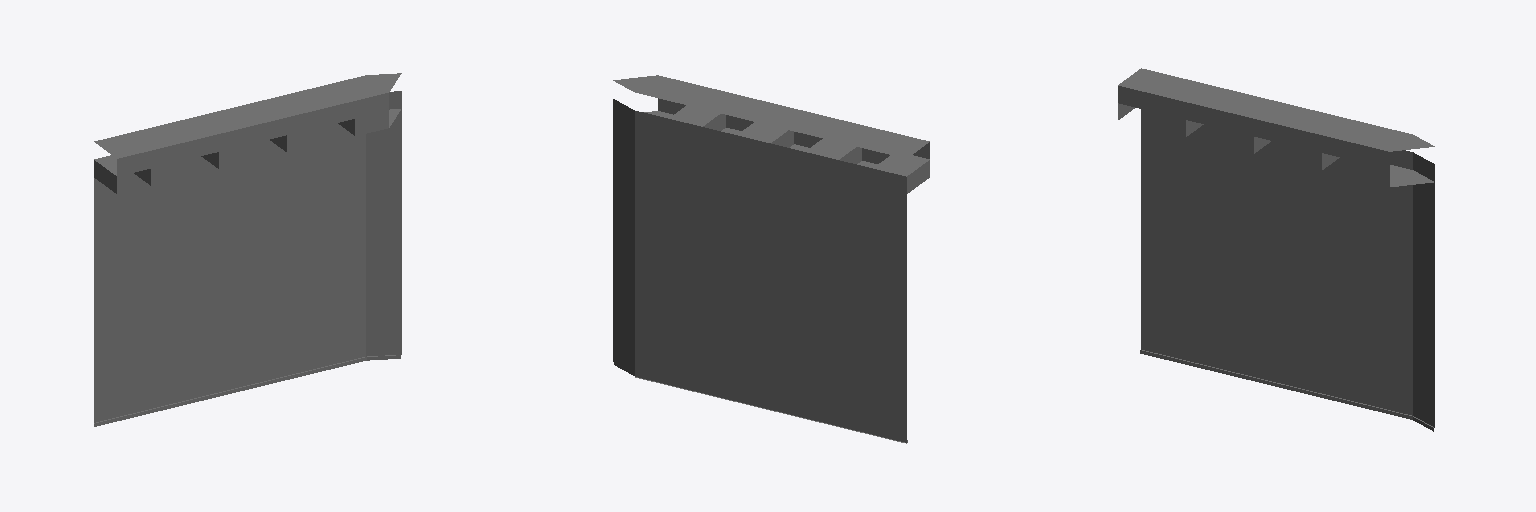
Rendered from WallCurve.obj.
3 renders of one model, left to right at view 1: azimuth 30°, elevation 25°; view 2: azimuth 150°, elevation 25°; view 3: azimuth 330°, elevation 25°, orthographic.
Parts seen in each view (by area): view 1: WallCurve.obj; view 2: WallCurve.obj; view 3: WallCurve.obj.
Part boxes in pixels (x1,y1,x2,y2): WallCurve.obj: (94,73,401,426); WallCurve.obj: (613,75,929,443); WallCurve.obj: (1118,68,1434,431).
Size of the model in its own units: 88.48 by 80 by 12.